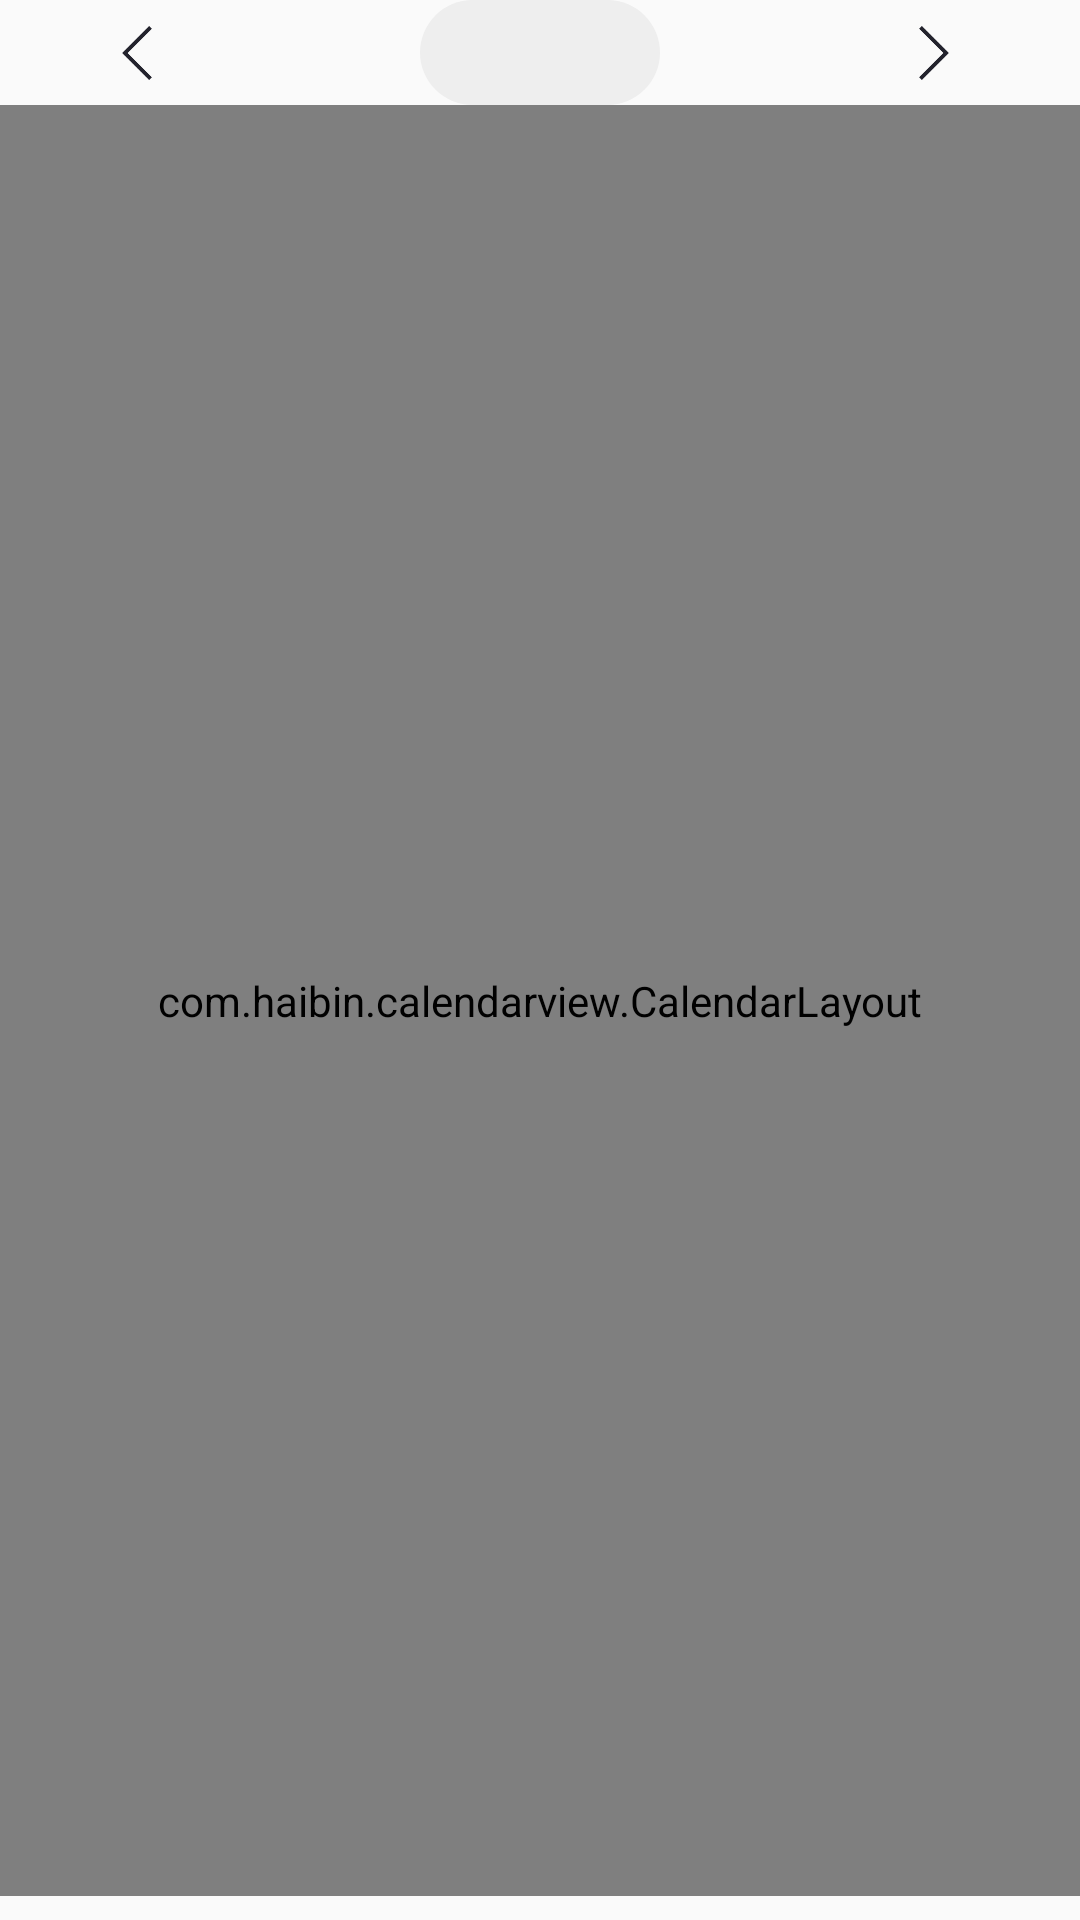

Named icons in this screenshot (1080px x 1920px) and their centers, [x,y]:
arrows left: [137,53]
arrows right: [934,53]
